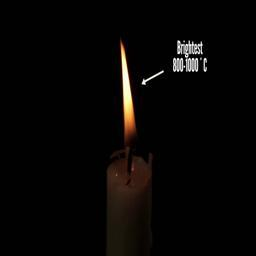fire: (120, 44, 135, 138)
